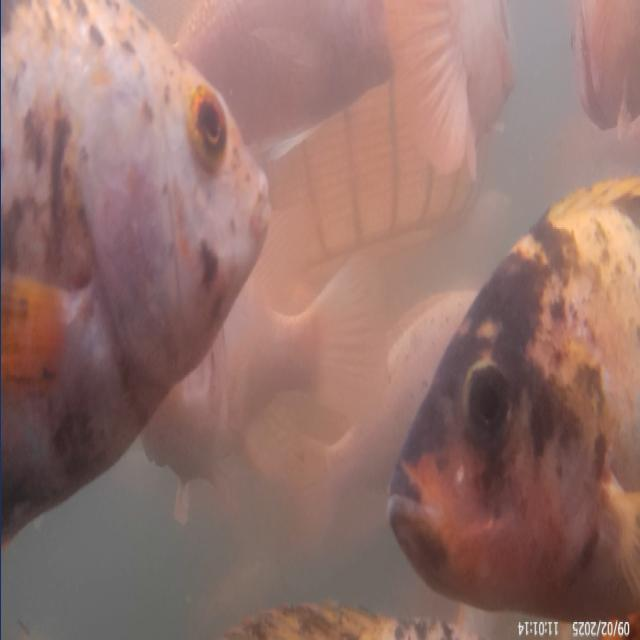ikan: (15, 7, 277, 444), (374, 187, 631, 609)
